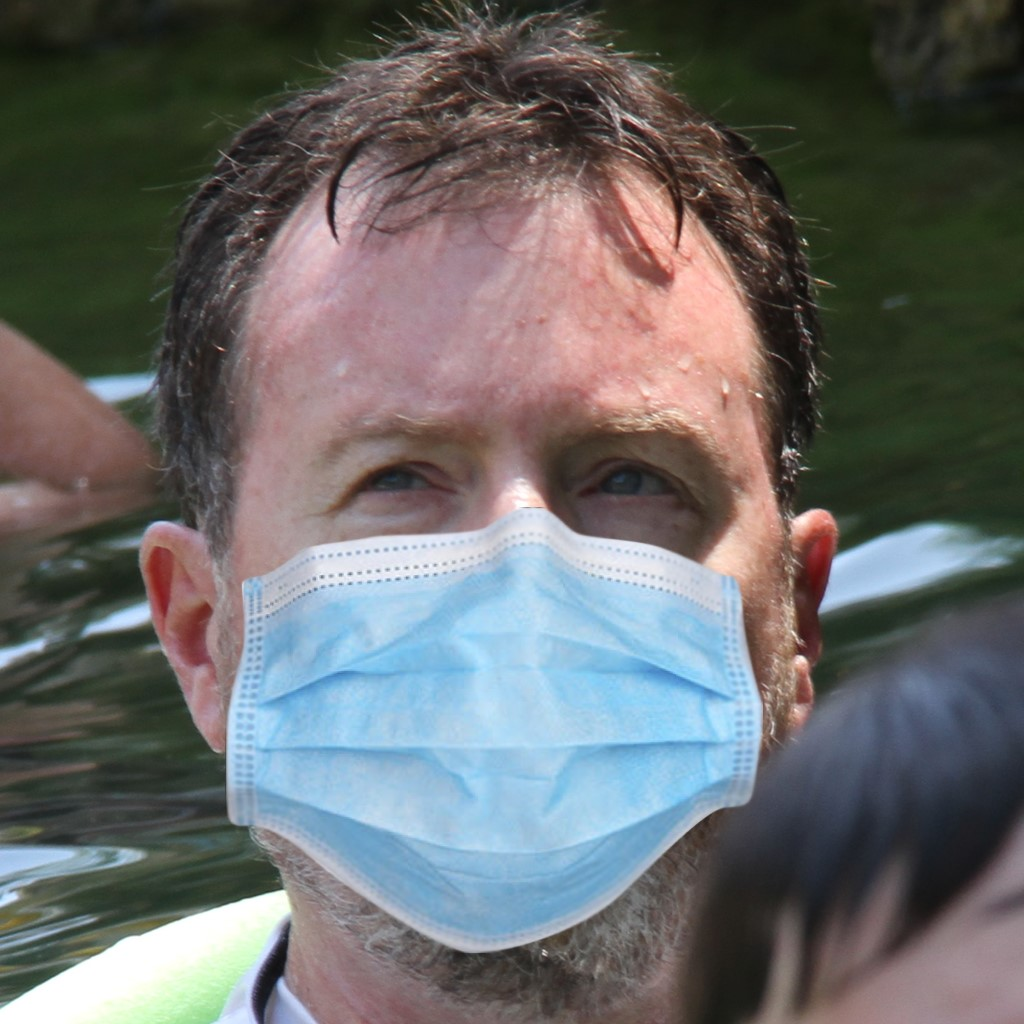con_mascara: (156, 105, 825, 960)
